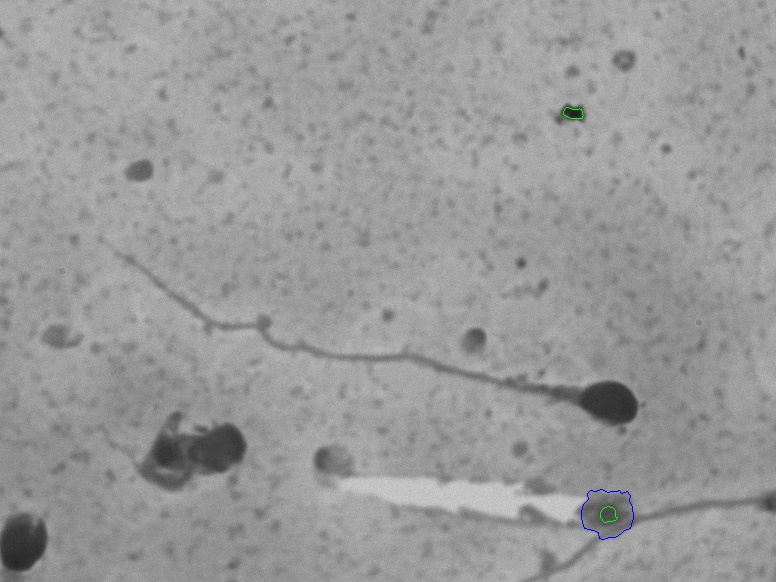Abnormal: (81, 221, 666, 447)
